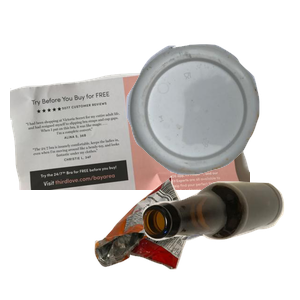glass: (140, 179, 300, 300)
paper: (10, 61, 250, 241)
plastic: (124, 42, 300, 210)
trash: (92, 174, 272, 300)
